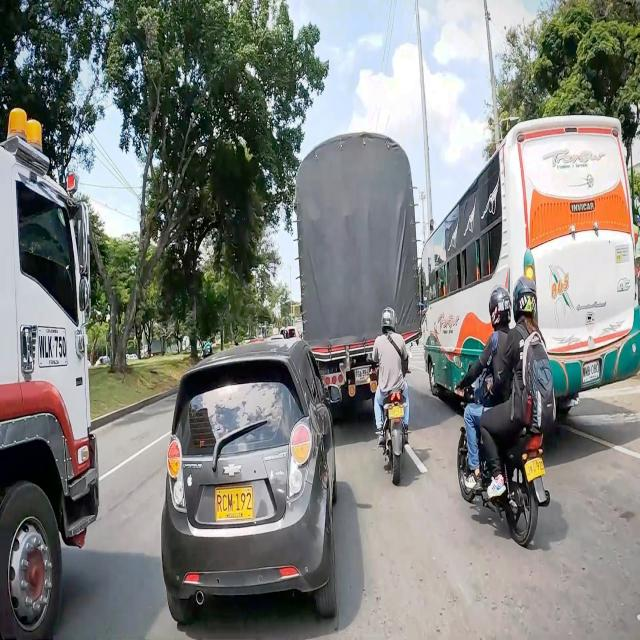license_plate: (214, 485, 254, 521), (580, 358, 604, 389), (523, 458, 547, 481), (354, 367, 371, 386), (388, 405, 406, 422)
